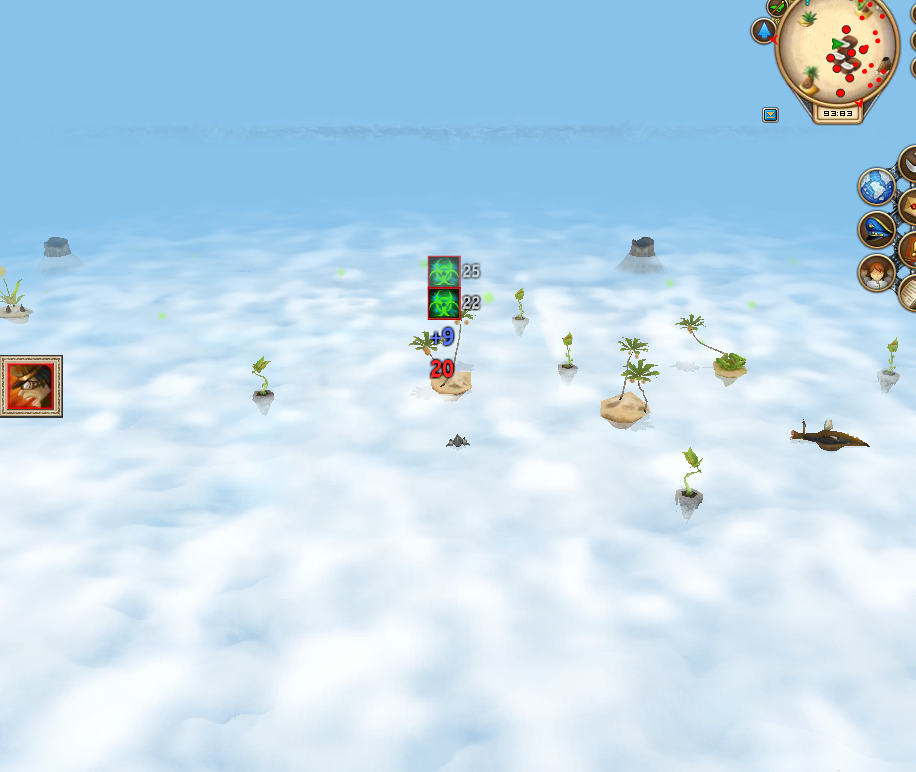palm: (410, 309, 482, 401), (671, 312, 752, 391), (595, 334, 658, 431)
